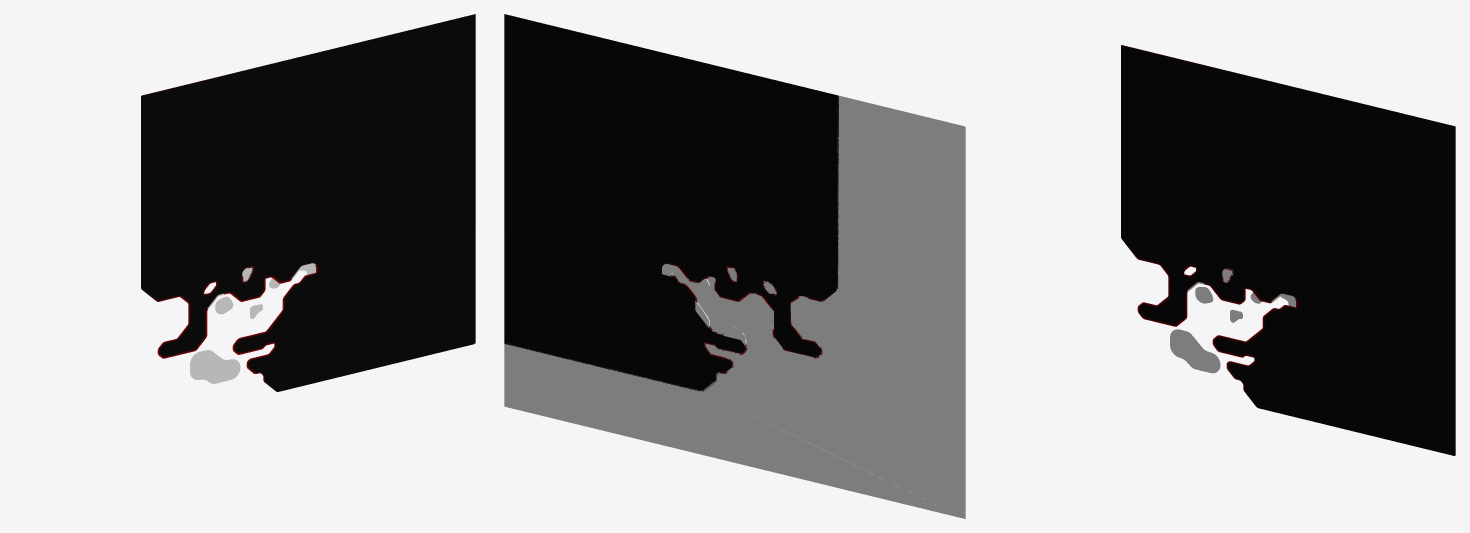
File: Reykjavik.glb
3 renders of one model, left to right at view 1: azimuth 30°, elevation 25°; view 2: azimuth 150°, elevation 25°; view 3: azimuth 330°, elevation 25°, orthographic.
Visible parts, largest first — view 1: MSH_MAP_Reykjavik_Water, MSH_Map_Grass_Middle_03; view 2: MSH_MAP_Reykjavik_Water, MSH_MAP_Reykjavik_Land, MSH_MAP_Reykjavik_Grass, MSH_Map_Grass_Middle_03; view 3: MSH_MAP_Reykjavik_Water, MSH_Map_Grass_Middle_03.
Part boxes in pixels (bbox=[...]): MSH_MAP_Reykjavik_Water: bbox=[141, 14, 475, 391]; MSH_Map_Grass_Middle_03: bbox=[190, 350, 240, 383]; MSH_MAP_Reykjavik_Water: bbox=[504, 14, 838, 391]; MSH_MAP_Reykjavik_Land: bbox=[504, 95, 965, 518]; MSH_MAP_Reykjavik_Grass: bbox=[662, 264, 745, 347]; MSH_Map_Grass_Middle_03: bbox=[740, 356, 789, 383]; MSH_MAP_Reykjavik_Water: bbox=[1121, 45, 1455, 455]; MSH_Map_Grass_Middle_03: bbox=[1170, 329, 1220, 373].
Size of the model in its own units: 332 by 270 by 1.42.
Materials: 4 (1 with a texture image).
